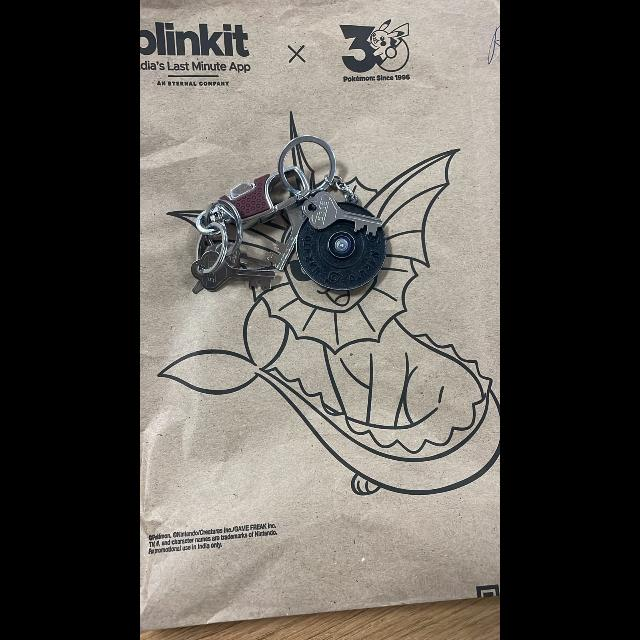keys: (177, 134, 425, 306)
